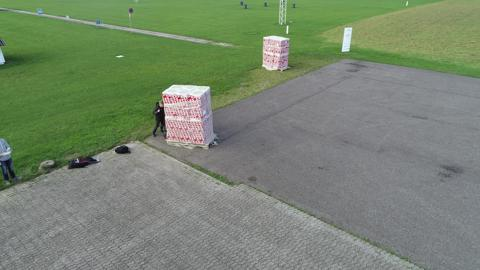RockwoolPallet: (161, 83, 216, 141)
